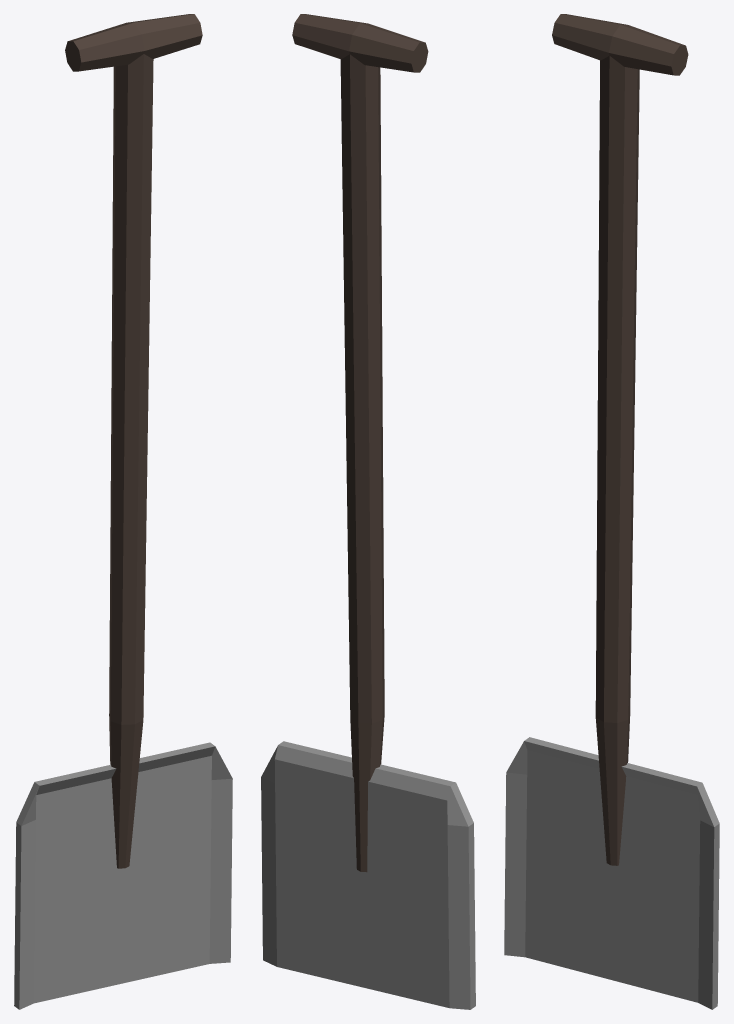
File: Shovel_1.fbx
3 renders of one model, left to right at view 1: azimuth 30°, elevation 25°; view 2: azimuth 150°, elevation 25°; view 3: azimuth 330°, elevation 25°, orthographic.
Parts seen in each view (by area): view 1: Shovel_1; view 2: Shovel_1; view 3: Shovel_1.
Boxes of the visible parts, x1,y1,x2,y2 form: Shovel_1: [14, 14, 232, 1009]; Shovel_1: [261, 14, 475, 1009]; Shovel_1: [504, 14, 719, 1009].
Bounding box in the file's own units: 26.92 × 4.88 × 117.
